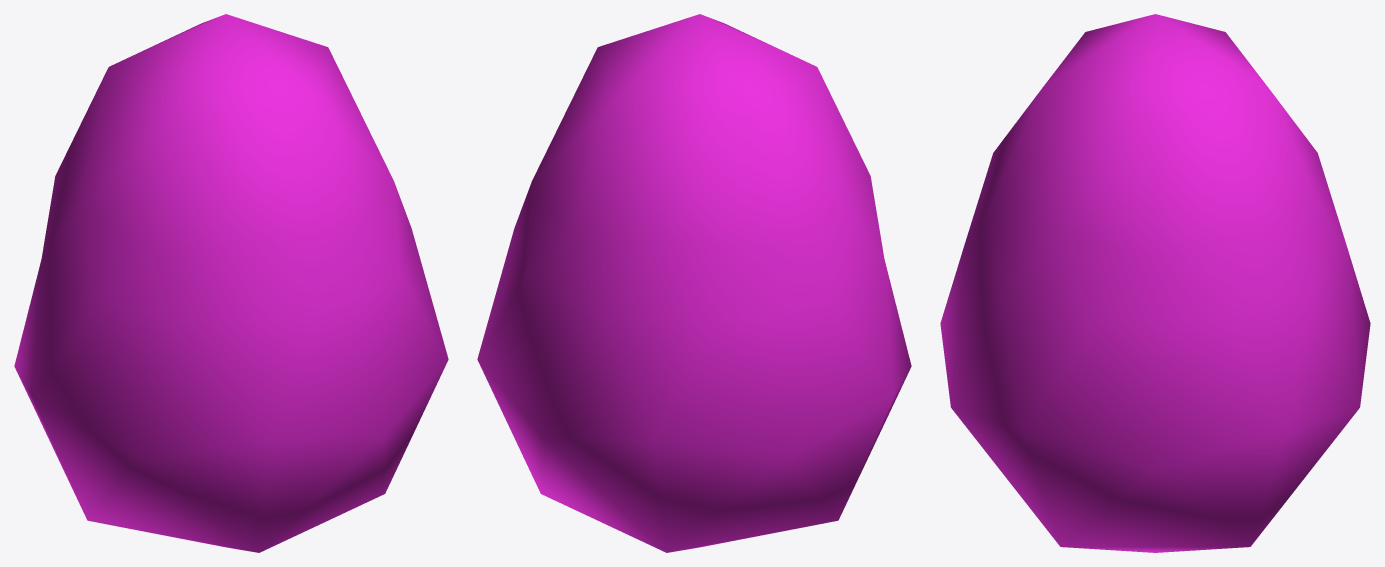
File: egg02REV_v1-1.12.2021.fbx
3 views of the same model, side by side, from view 1: azimuth 30°, elevation 25°; view 2: azimuth 150°, elevation 25°; view 3: azimuth 270°, elevation 25° (orthographic).
Parts seen in each view (by area): view 1: CoL_egg02; view 2: CoL_egg02; view 3: CoL_egg02.
Boxes of the visible parts, x1,y1,x2,y2 form: CoL_egg02: (14, 14, 448, 552); CoL_egg02: (477, 14, 911, 552); CoL_egg02: (940, 14, 1370, 552).
Size of the model in its own units: 41.39 by 55.78 by 40.35.
